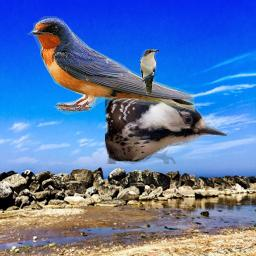Cuckoo: (140, 49, 159, 95)
Swallow: (27, 15, 195, 117)
Woodpecker: (105, 88, 227, 164)
